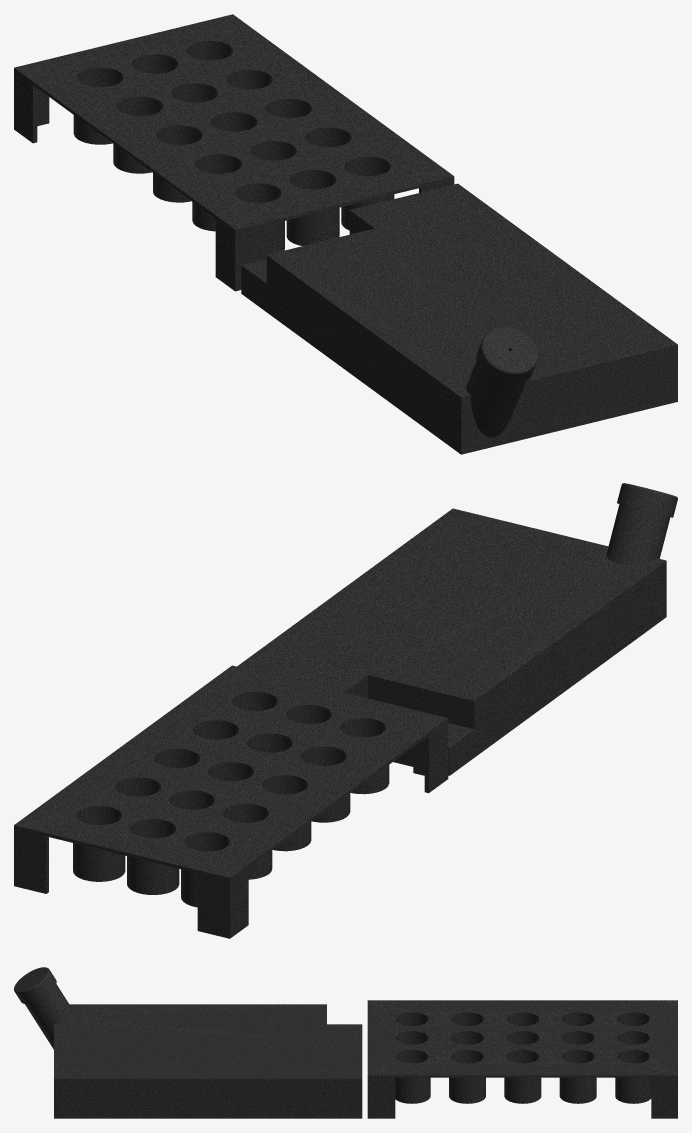
The model's file is water_tank.dae.
3 renders of one model, top to bottom at view 1: azimuth 30°, elevation 25°; view 2: azimuth 150°, elevation 25°; view 3: azimuth 270°, elevation 25°, orthographic. The views are drawn at different scales.
Parts seen in each view (by area): view 1: Твердое тело1:1, Твердое тело1, Твердое тело1:2; view 2: Твердое тело1:1, Твердое тело1, Твердое тело1:2; view 3: Твердое тело1:1, Твердое тело1, Твердое тело1:2.
Boxes of the visible parts, <box> form: Твердое тело1:1: <box>241,183,677,454</box>; Твердое тело1: <box>14,14,454,291</box>; Твердое тело1:2: <box>476,327,538,385</box>; Твердое тело1:1: <box>237,503,670,775</box>; Твердое тело1: <box>14,665,448,938</box>; Твердое тело1:2: <box>617,483,677,517</box>; Твердое тело1:1: <box>25,984,362,1118</box>; Твердое тело1: <box>367,1000,677,1118</box>; Твердое тело1:2: <box>14,967,56,1003</box>.
Bounding box in the file's own units: 0.2 × 0.7492 × 0.1061.
Materials: 1 (1 with a texture image).
